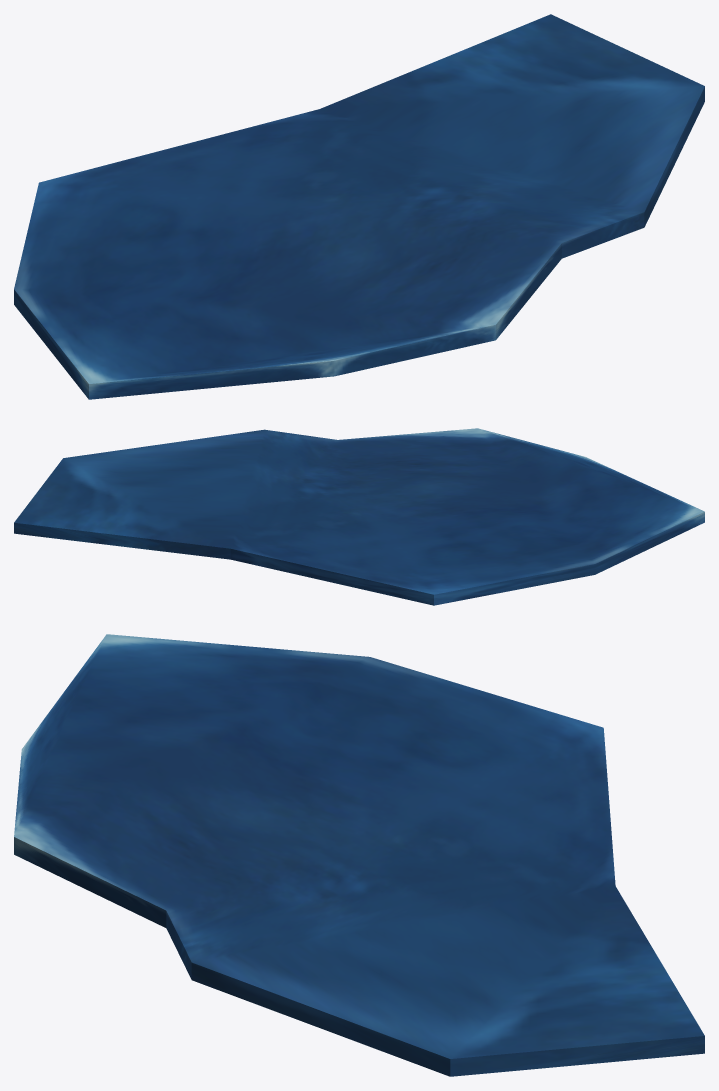
The model's file is FuBing01.FBX.
The picture shows the model from 3 angles, top to bottom: view 1: azimuth 30°, elevation 25°; view 2: azimuth 150°, elevation 25°; view 3: azimuth 270°, elevation 25°; orthographic projection. The views are drawn at different scales.
Parts seen in each view (by area): view 1: FuBing01; view 2: FuBing01; view 3: FuBing01.
Boxes of the visible parts, bbox=[...] form: FuBing01: bbox=[14, 14, 704, 399]; FuBing01: bbox=[14, 428, 704, 605]; FuBing01: bbox=[14, 634, 704, 1076].
Size of the model in its own units: 743 by 14.45 by 510.
